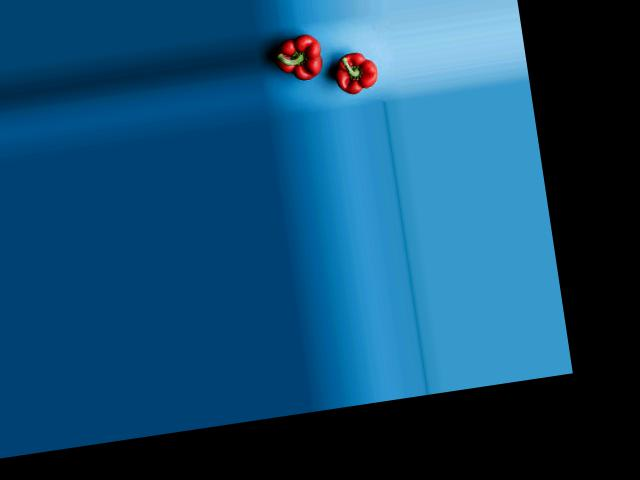bell_pepper: (267, 32, 334, 90)
